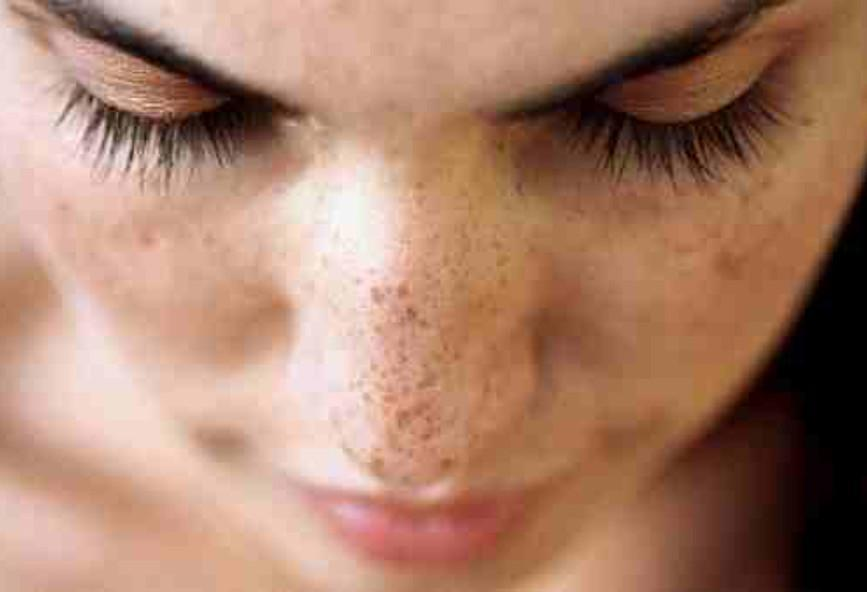Dark-Spots: (306, 127, 507, 490), (519, 157, 801, 360)
